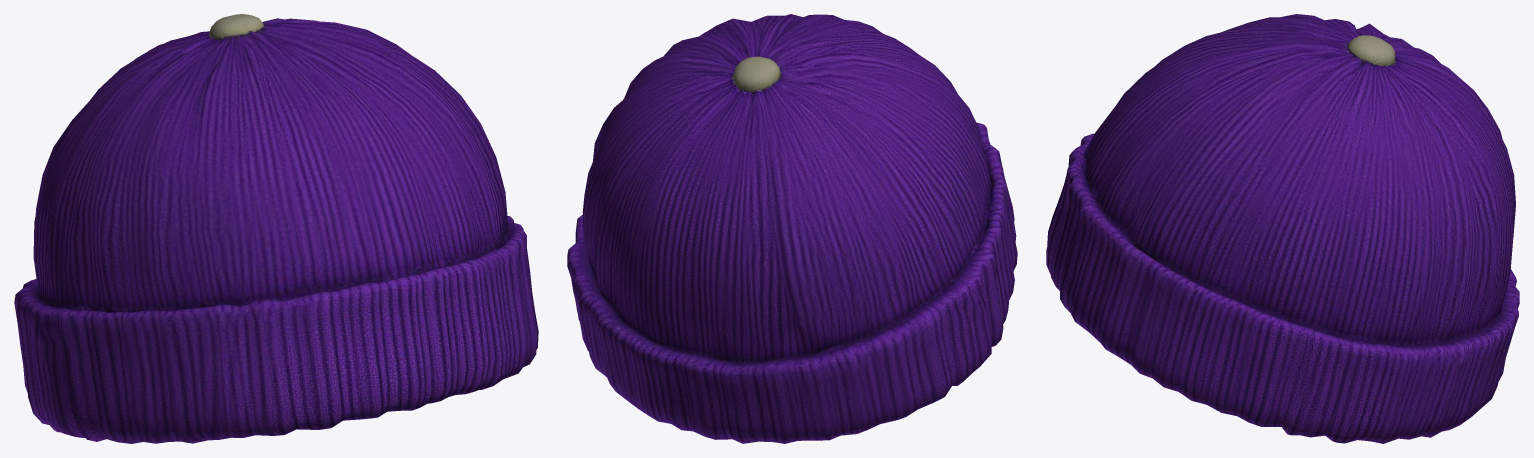
Rendered from beanie.glb.
The picture shows the model from 3 angles, left to right: view 1: azimuth 30°, elevation 25°; view 2: azimuth 150°, elevation 25°; view 3: azimuth 270°, elevation 25°; orthographic projection. The views are drawn at different scales.
Parts seen in each view (by area): view 1: Beanie; view 2: Beanie; view 3: Beanie.
Part boxes in pixels (box(x1,y1,x2,y2)): Beanie: box(14, 14, 538, 443); Beanie: box(567, 14, 1017, 443); Beanie: box(1046, 14, 1519, 443).
Bounding box in the file's own units: 0.5379 × 0.4434 × 0.5486.
Materials: 1 (1 with a texture image).
